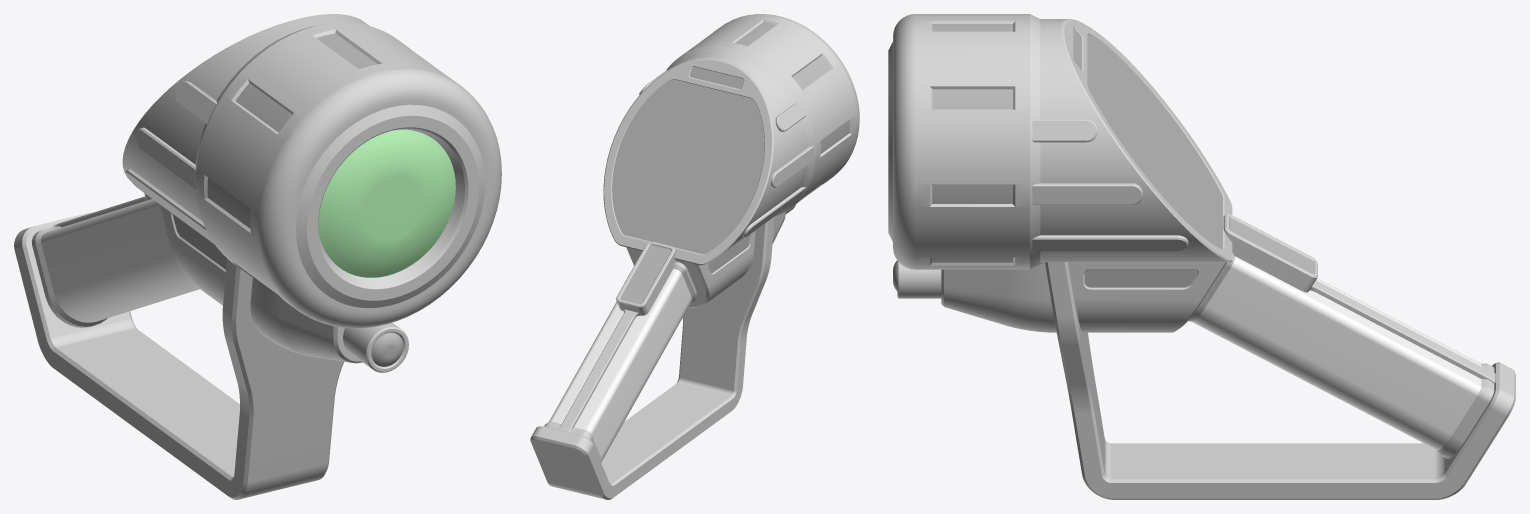
Rendered from NSSFHG2Regenerator.Shape.fbx.
3 renders of one model, left to right at view 1: azimuth 30°, elevation 25°; view 2: azimuth 150°, elevation 25°; view 3: azimuth 270°, elevation 25°, orthographic. The views are drawn at different scales.
Parts seen in each view (by area): view 1: NSSFHG2Regenerator.Shape; view 2: NSSFHG2Regenerator.Shape; view 3: NSSFHG2Regenerator.Shape.
Part boxes in pixels (<box>): NSSFHG2Regenerator.Shape: <box>14,14,501,499</box>; NSSFHG2Regenerator.Shape: <box>530,14,859,499</box>; NSSFHG2Regenerator.Shape: <box>888,14,1515,499</box>.
Bounding box in the file's own units: 10.97 × 21.58 × 26.9.
